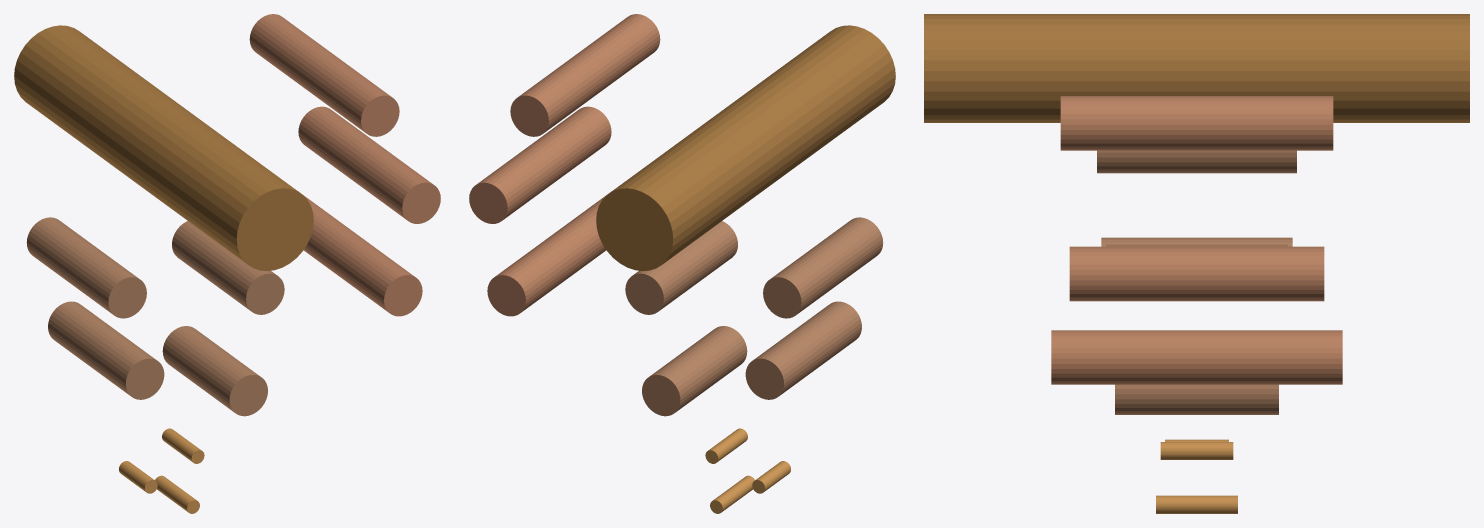
Rendered from root_system.glb.
3 views of the same model, side by side, from view 1: azimuth 30°, elevation 25°; view 2: azimuth 150°, elevation 25°; view 3: azimuth 270°, elevation 25° (orthographic). The views are drawn at different scales.
Visible parts, largest first — view 1: world; view 2: world; view 3: world.
Part boxes in pixels (x1,y1,x2,y2): world: (14, 14, 440, 513); world: (469, 14, 895, 513); world: (924, 14, 1469, 513).
Size of the model in its own units: 5 by 6.1 by 6.
